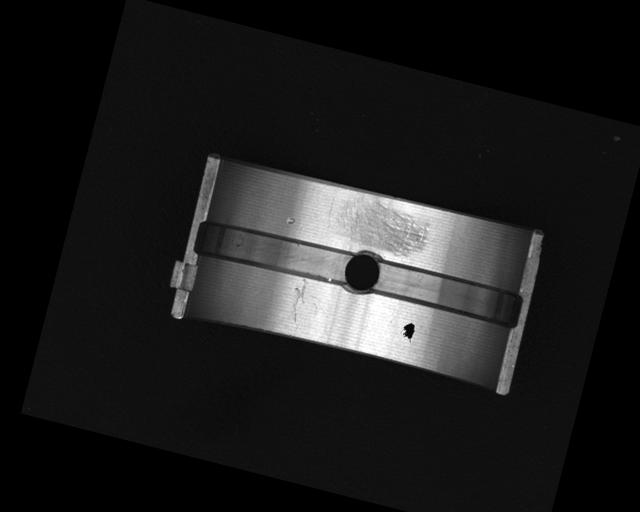blot: (398, 319, 418, 345)
bruise: (284, 215, 297, 226)
gap: (194, 212, 356, 293), (369, 256, 525, 331)
hole: (338, 246, 385, 299)
nick: (285, 276, 311, 325)
scratch: (329, 187, 436, 261)
